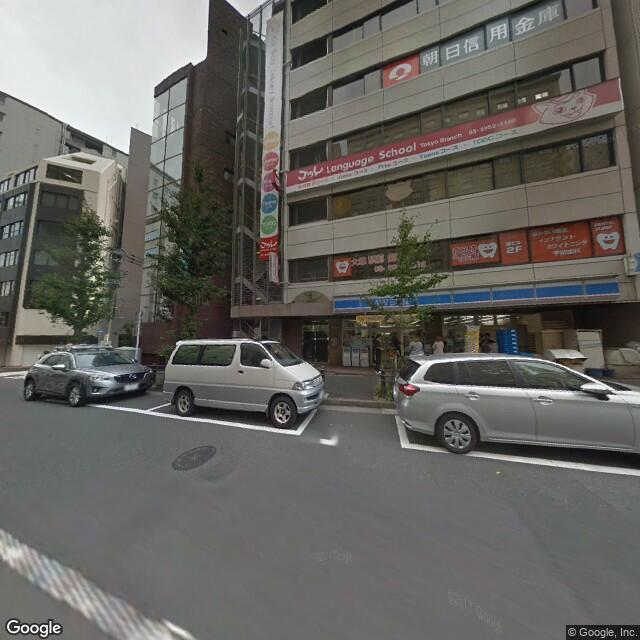lawson: (335, 269, 624, 319)
